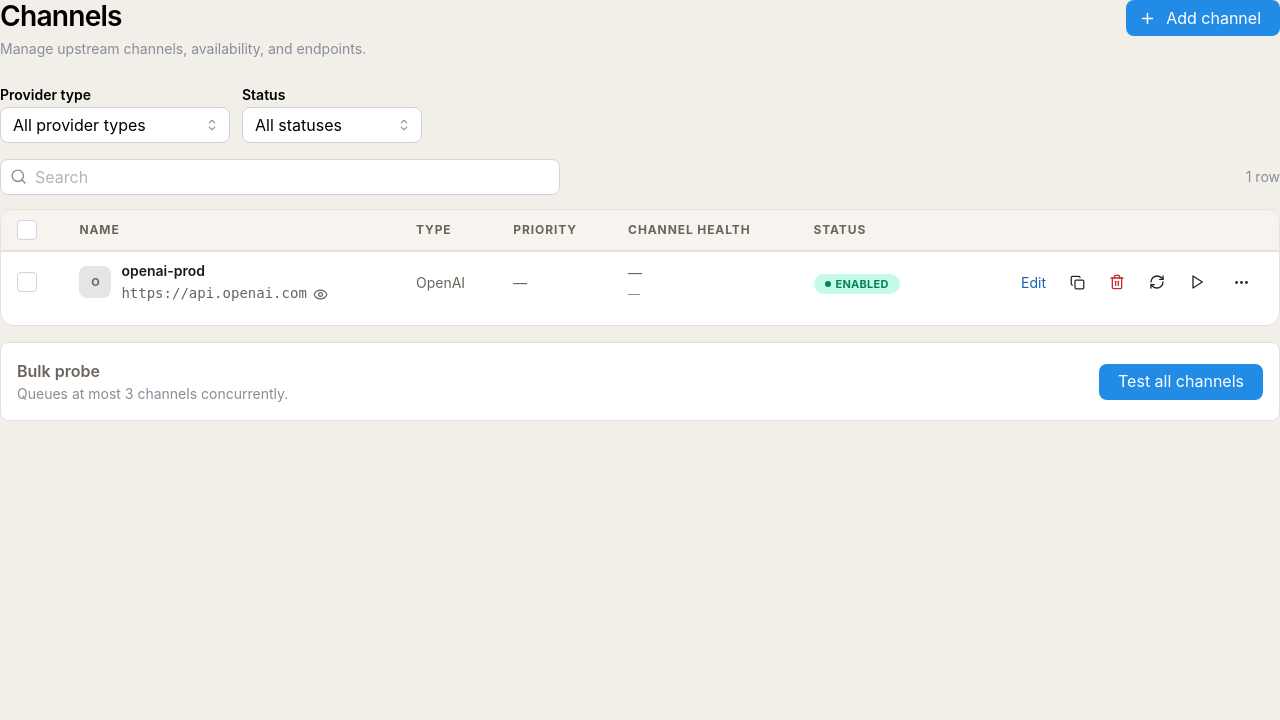
destructive actions ask through the shared dialog › deletes the named channel once, and only after the confirmation
Click the button named "Delete openai-prod" at (1117, 282), box top-left (1099, 264), bottom-right (1135, 300)
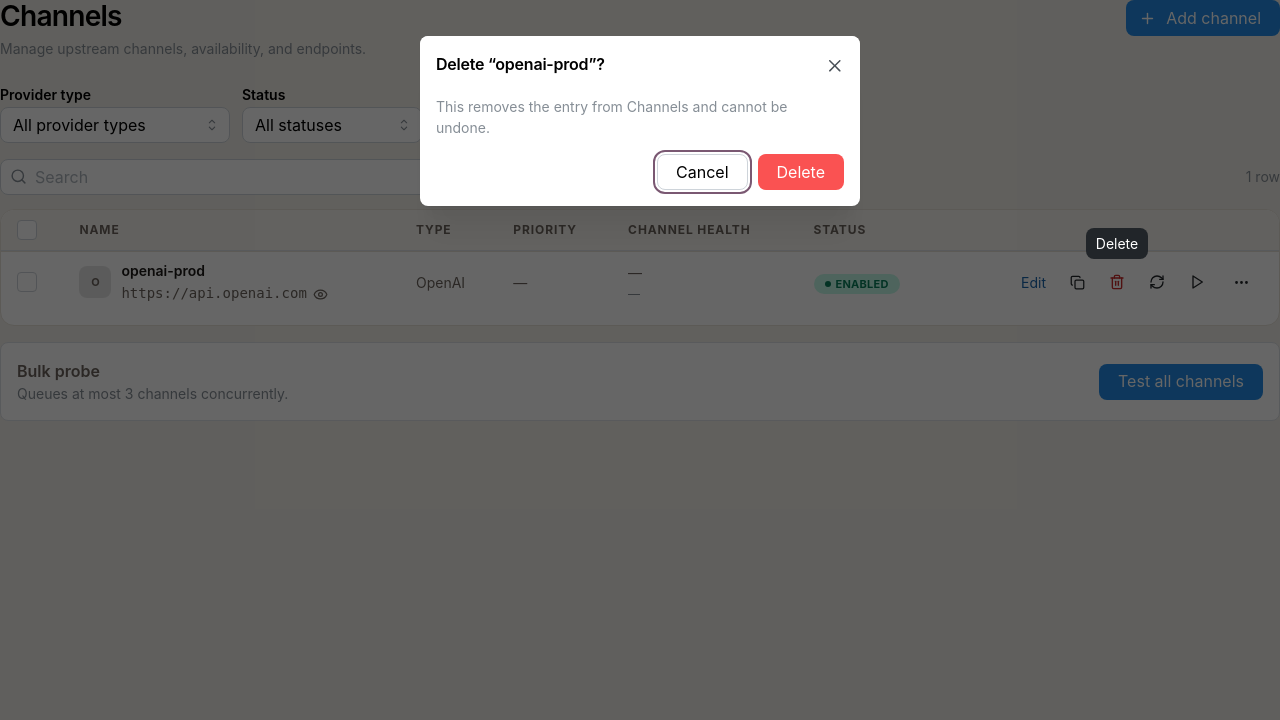
Click the button "Delete" at (801, 172), box top-left (758, 154), bottom-right (844, 190)
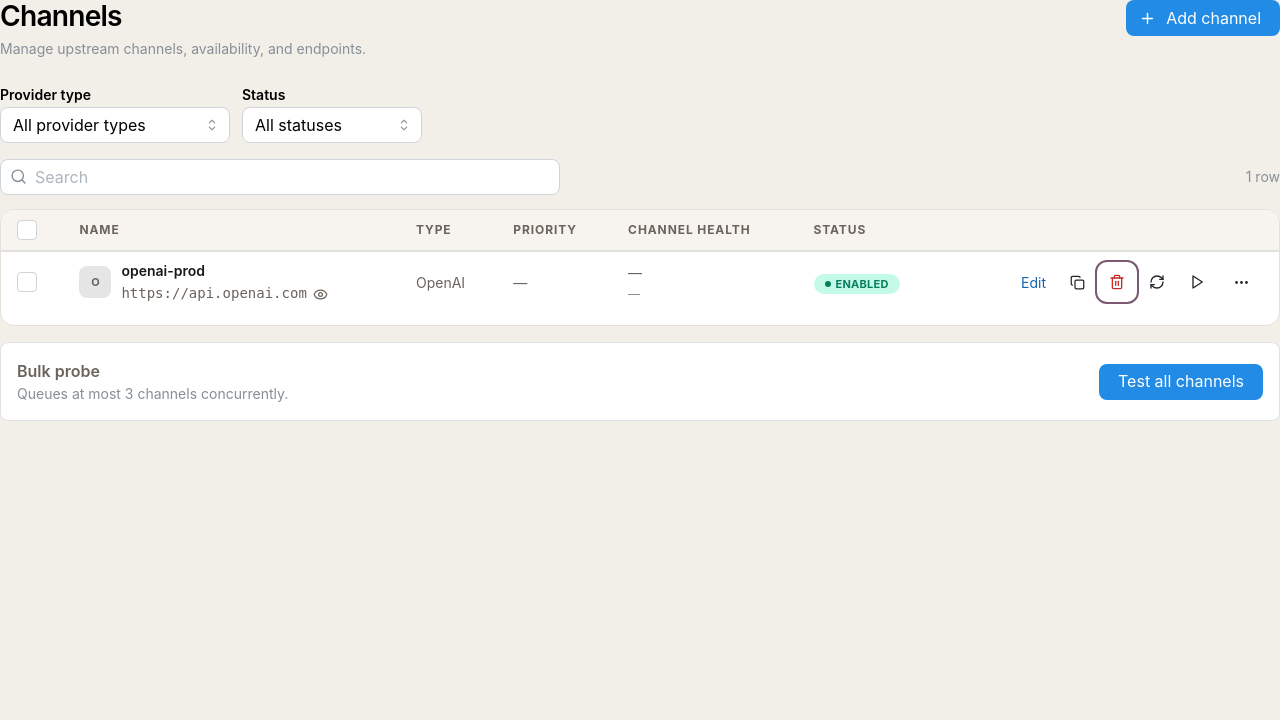
Expected: the dialog is gone
